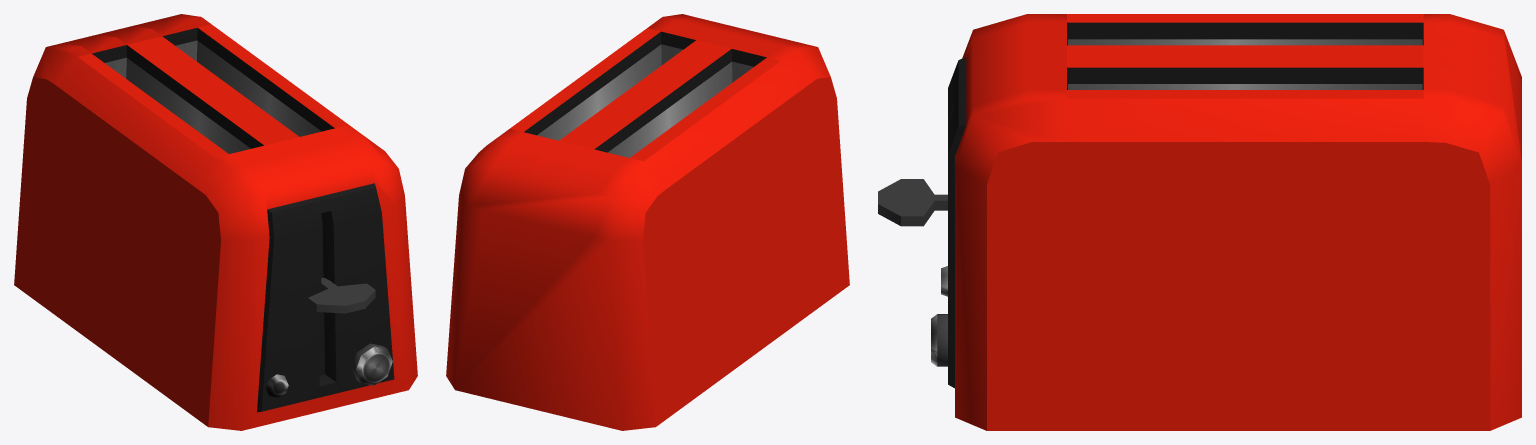
File: Toaster_04.FBX
The picture shows the model from 3 angles, left to right: view 1: azimuth 30°, elevation 25°; view 2: azimuth 150°, elevation 25°; view 3: azimuth 270°, elevation 25°; orthographic projection. The views are drawn at different scales.
Visible parts, largest first — view 1: Toaster; view 2: Toaster; view 3: Toaster.
Boxes of the visible parts, bbox=[...] form: Toaster: bbox=[14, 14, 417, 430]; Toaster: bbox=[446, 14, 849, 430]; Toaster: bbox=[878, 14, 1521, 430].
Size of the model in its own units: 41.55 by 45 by 85.19.
